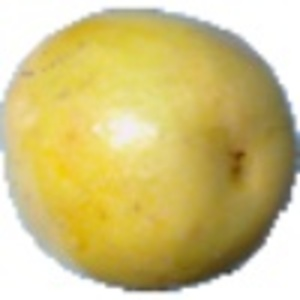maracujá: (1, 7, 300, 296)
